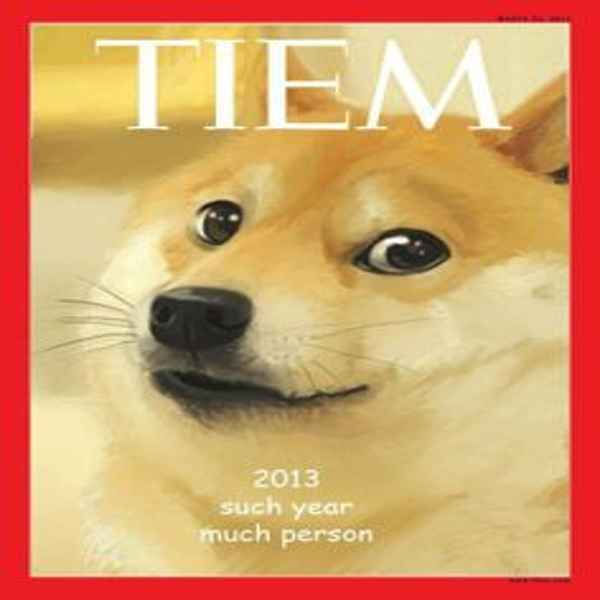doge: (98, 111, 539, 465)
